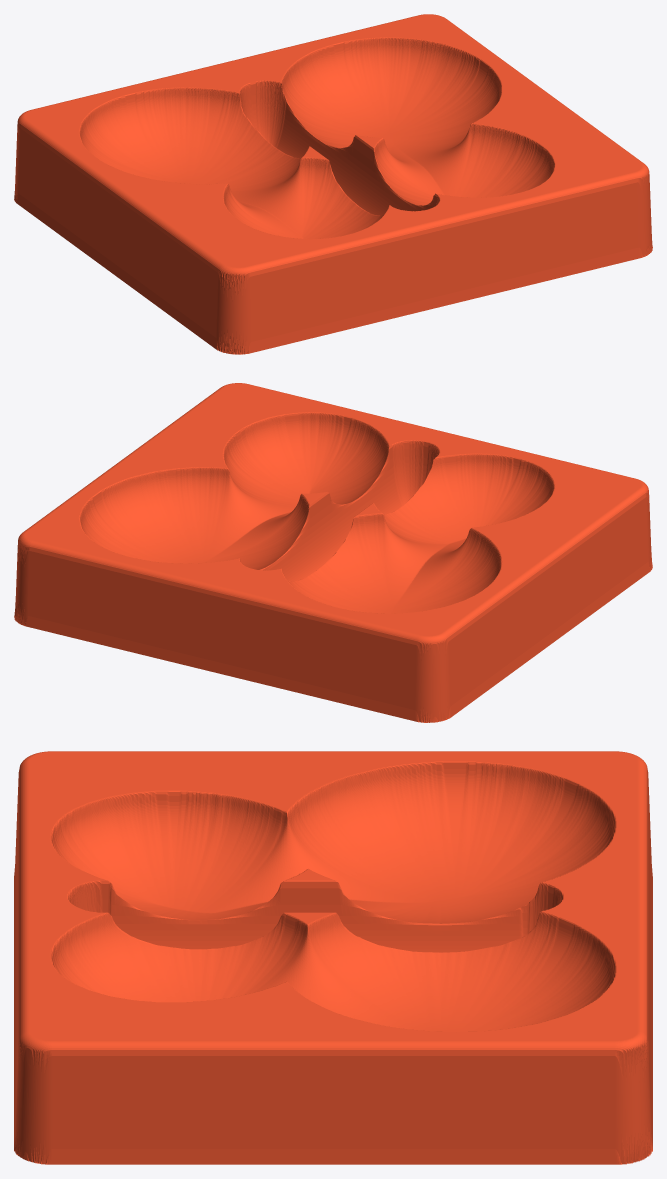
Rendered from mold.glb.
3 views of the same model, one above another, from view 1: azimuth 30°, elevation 25°; view 2: azimuth 150°, elevation 25°; view 3: azimuth 270°, elevation 25° (orthographic). The views are drawn at different scales.
Visible parts, largest first — view 1: geometry_0; view 2: geometry_0; view 3: geometry_0.
Part boxes in pixels (<box>): geometry_0: <box>14,14,652,354</box>; geometry_0: <box>14,383,652,722</box>; geometry_0: <box>14,751,652,1164</box>.
Bounding box in the file's own units: 0.1709 × 0.031 × 0.1531.
